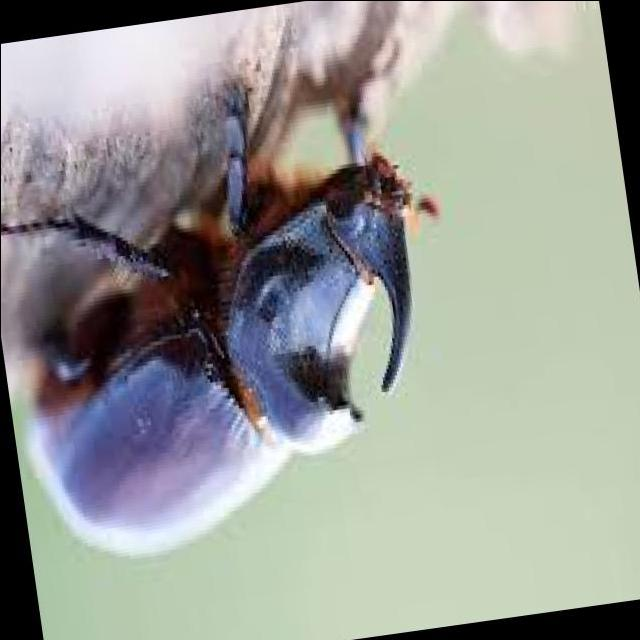Rhino-beetle: (11, 79, 432, 563)
